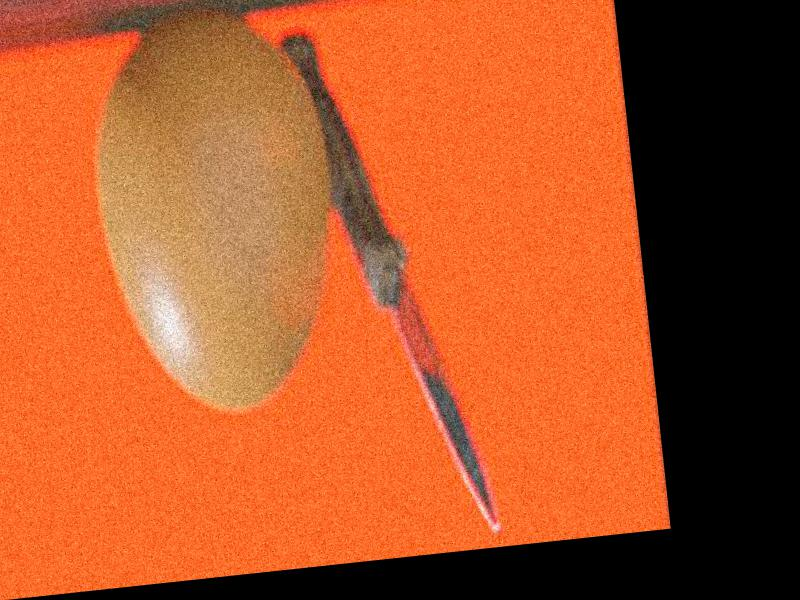Eggs: (84, 6, 350, 417)
